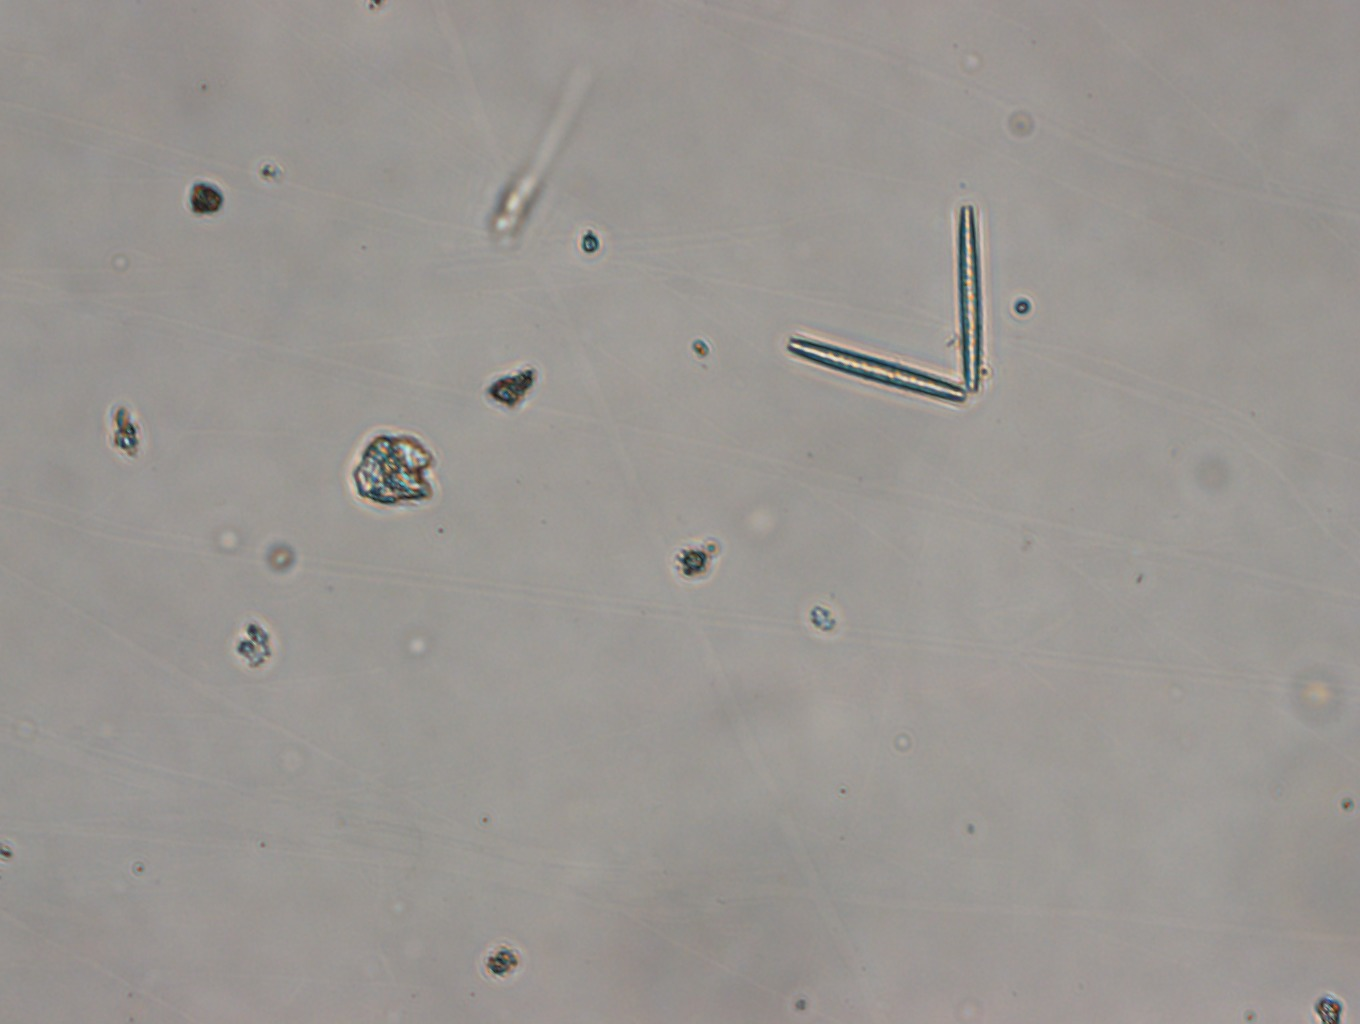thalassionema frauenfeldii: (777, 207, 999, 406)
